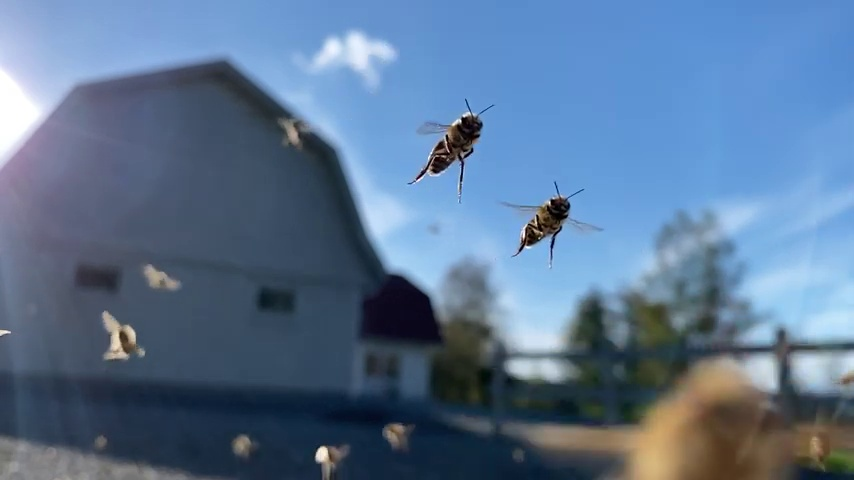insect: (405, 97, 494, 199), (497, 184, 604, 265), (97, 310, 145, 366), (277, 119, 311, 152)
